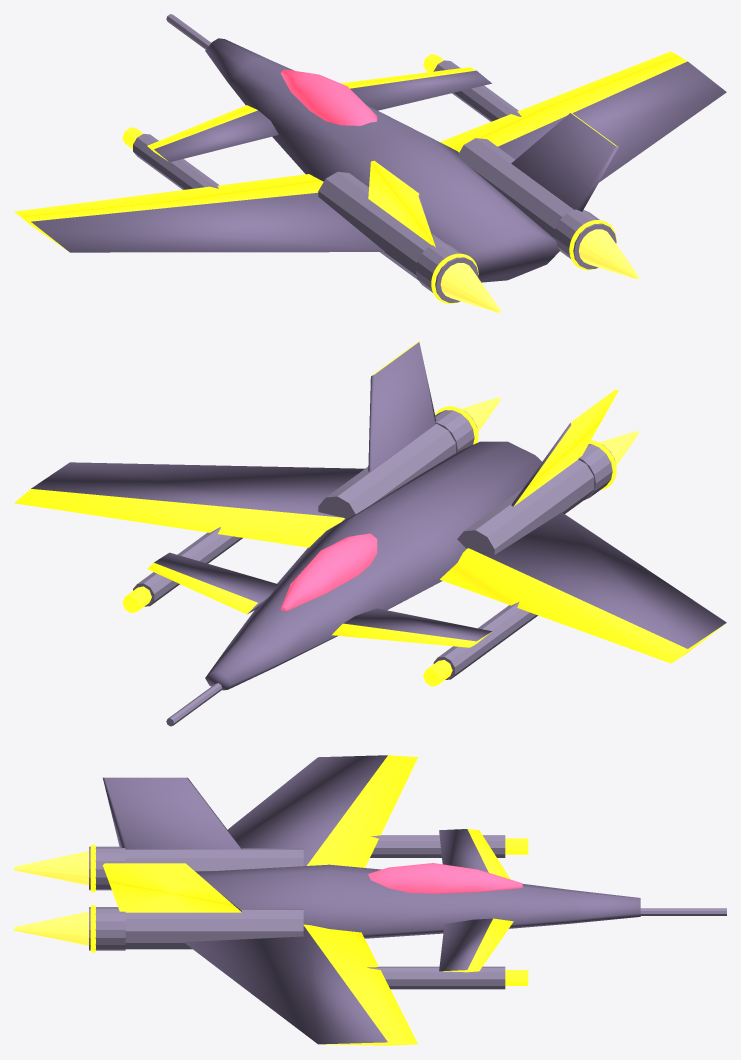
Rendered from Enemigo_Ataque.glb.
3 views of the same model, one above another, from view 1: azimuth 30°, elevation 25°; view 2: azimuth 150°, elevation 25°; view 3: azimuth 270°, elevation 25° (orthographic). The views are drawn at different scales.
Parts seen in each view (by area): view 1: Fuselaje_Vibora, Alas_Vibora_-1.0, Alas_Vibora_1.0, Deriva_Vibora_1.0, Cylinder.005, Cylinder.006, Canard_Vibora_-1.0, Canard_Vibora_1.0, Visor_Vibora, Deriva_Vibora_-1.0, Cylinder.001, propulsor.001 (+4 smaller); view 2: Fuselaje_Vibora, Alas_Vibora_-1.0, Alas_Vibora_1.0, Deriva_Vibora_1.0, Cylinder.005, Cylinder.006, Canard_Vibora_1.0, Canard_Vibora_-1.0, Visor_Vibora, Deriva_Vibora_-1.0, Cylinder.001, Cylinder.003 (+3 smaller); view 3: Fuselaje_Vibora, Alas_Vibora_1.0, Alas_Vibora_-1.0, Deriva_Vibora_-1.0, Cylinder.006, Deriva_Vibora_1.0, Cylinder.005, Visor_Vibora, Canard_Vibora_1.0, Cylinder.003, Canard_Vibora_-1.0, Cylinder.001 (+5 smaller).
Boxes of the visible parts, x1,y1,x2,y2 form: Fuselaje_Vibora: (205, 38, 560, 282); Alas_Vibora_-1.0: (14, 174, 384, 252); Alas_Vibora_1.0: (440, 51, 726, 182); Deriva_Vibora_1.0: (511, 112, 618, 211); Cylinder.005: (318, 172, 444, 280); Cylinder.006: (457, 138, 573, 237); Canard_Vibora_-1.0: (147, 105, 278, 162); Canard_Vibora_1.0: (341, 67, 491, 110); Visor_Vibora: (281, 69, 377, 125); Deriva_Vibora_-1.0: (368, 160, 435, 247); Cylinder.001: (133, 134, 219, 189); propulsor.001: (579, 229, 638, 279); Fuselaje_Vibora: (205, 441, 541, 690); Alas_Vibora_-1.0: (440, 512, 726, 663); Alas_Vibora_1.0: (14, 462, 364, 547); Deriva_Vibora_1.0: (368, 341, 435, 471); Cylinder.005: (457, 459, 593, 554); Cylinder.006: (318, 423, 455, 519); Canard_Vibora_1.0: (147, 552, 278, 614); Canard_Vibora_-1.0: (332, 608, 491, 647); Visor_Vibora: (280, 533, 377, 611); Deriva_Vibora_-1.0: (511, 389, 618, 506); Cylinder.001: (433, 602, 537, 679); Cylinder.003: (133, 527, 242, 606); Fuselaje_Vibora: (196, 864, 640, 938); Alas_Vibora_1.0: (183, 924, 417, 1045); Alas_Vibora_-1.0: (228, 755, 417, 867); Deriva_Vibora_-1.0: (103, 777, 241, 849); Cylinder.006: (125, 908, 303, 949); Deriva_Vibora_1.0: (102, 863, 241, 912); Cylinder.005: (125, 848, 303, 871); Visor_Vibora: (368, 863, 522, 893); Canard_Vibora_1.0: (439, 918, 513, 972); Cylinder.003: (367, 966, 505, 989); Canard_Vibora_-1.0: (439, 829, 510, 879); Cylinder.001: (370, 835, 505, 857).
Bounding box in the file's own units: 5.9 × 1.01 × 6.19.
